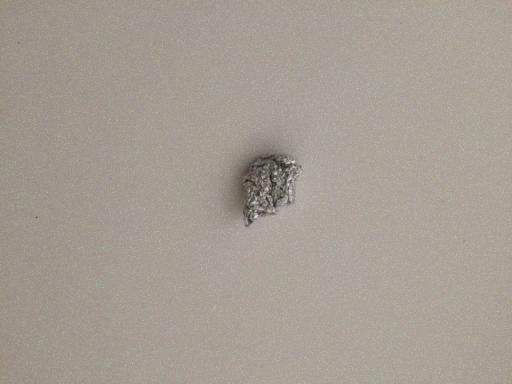cardboard: (0, 4, 509, 384)
